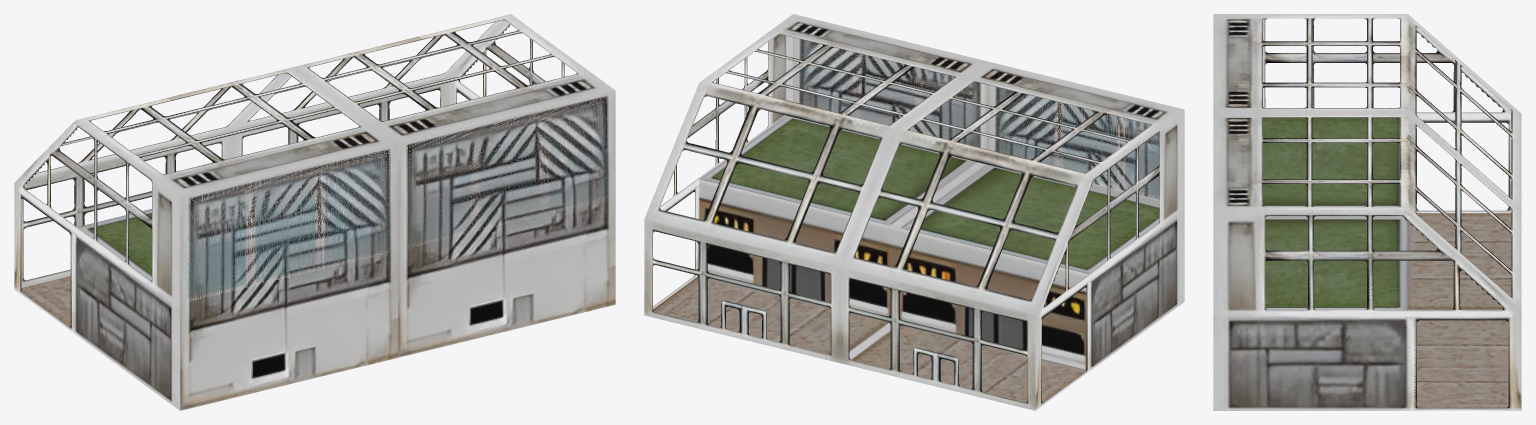
Rendered from lobby_hdtex.glb.
The picture shows the model from 3 angles, left to right: view 1: azimuth 30°, elevation 25°; view 2: azimuth 150°, elevation 25°; view 3: azimuth 270°, elevation 25°; orthographic projection. The views are drawn at different scales.
Parts seen in each view (by area): view 1: Lobby; view 2: Lobby; view 3: Lobby.
Part boxes in pixels (bbox=[...]): Lobby: bbox=[14, 14, 615, 410]; Lobby: bbox=[644, 14, 1184, 410]; Lobby: bbox=[1213, 14, 1521, 410].
Size of the model in its own units: 25.51 by 11.98 by 16.81.
1 material, 1 textured.
